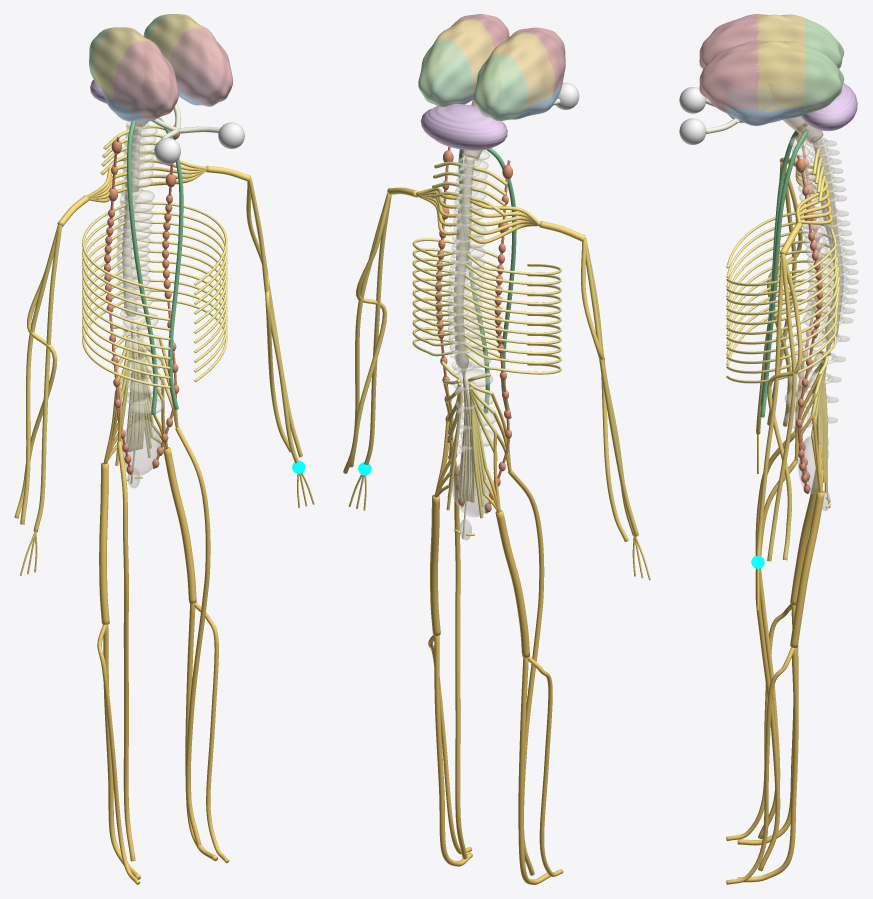
Rendered from NERVOUS.glb.
3 views of the same model, side by side, from view 1: azimuth 30°, elevation 25°; view 2: azimuth 150°, elevation 25°; view 3: azimuth 270°, elevation 25° (orthographic). The views are drawn at different scales.
Parts seen in each view (by area): view 1: LUMBOSACRAL_PLEXUS, SPINAL_NERVES, BRACHIAL_PLEXUS, VERTEBRAL_COLUMN, FRONTAL_LOBE_R, FRONTAL_LOBE_L, SYMPATHETIC_CHAIN, VAGUS_NERVE, PARIETAL_LOBE_R, OCCIPITAL_LOBE_R, PARIETAL_LOBE_L, OCCIPITAL_LOBE_L (+5 smaller); view 2: LUMBOSACRAL_PLEXUS, SPINAL_NERVES, BRACHIAL_PLEXUS, VERTEBRAL_COLUMN, CEREBELLUM, FRONTAL_LOBE_R, PARIETAL_LOBE_R, OCCIPITAL_LOBE_R, OCCIPITAL_LOBE_L, SYMPATHETIC_CHAIN, PARIETAL_LOBE_L, SPINAL_CORD (+5 smaller); view 3: LUMBOSACRAL_PLEXUS, SPINAL_NERVES, VERTEBRAL_COLUMN, BRACHIAL_PLEXUS, FRONTAL_LOBE_L, PARIETAL_LOBE_L, SYMPATHETIC_CHAIN, TEMPORAL_LOBE_L, VAGUS_NERVE, OCCIPITAL_LOBE_L, FRONTAL_LOBE_R, CEREBELLUM (+6 smaller).
Boxes of the visible parts, left/top/right/bottom form: LUMBOSACRAL_PLEXUS: left=97, top=339, right=229, bottom=884; SPINAL_NERVES: left=82, top=125, right=227, bottom=480; BRACHIAL_PLEXUS: left=14, top=153, right=314, bottom=575; VERTEBRAL_COLUMN: left=116, top=121, right=164, bottom=488; FRONTAL_LOBE_R: left=113, top=40, right=178, bottom=119; FRONTAL_LOBE_L: left=169, top=27, right=232, bottom=105; SYMPATHETIC_CHAIN: left=104, top=124, right=179, bottom=474; VAGUS_NERVE: left=127, top=117, right=183, bottom=415; PARIETAL_LOBE_R: left=92, top=27, right=165, bottom=99; OCCIPITAL_LOBE_R: left=89, top=27, right=138, bottom=92; PARIETAL_LOBE_L: left=149, top=14, right=219, bottom=72; OCCIPITAL_LOBE_L: left=143, top=14, right=192, bottom=76; LUMBOSACRAL_PLEXUS: left=428, top=382, right=563, bottom=884; SPINAL_NERVES: left=412, top=161, right=561, bottom=535; BRACHIAL_PLEXUS: left=343, top=187, right=650, bottom=580; VERTEBRAL_COLUMN: left=447, top=150, right=495, bottom=540; CEREBELLUM: left=420, top=104, right=507, bottom=150; FRONTAL_LOBE_R: left=502, top=27, right=565, bottom=94; PARIETAL_LOBE_R: left=480, top=31, right=554, bottom=109; OCCIPITAL_LOBE_R: left=473, top=52, right=527, bottom=121; OCCIPITAL_LOBE_L: left=418, top=39, right=471, bottom=107; SYMPATHETIC_CHAIN: left=435, top=146, right=512, bottom=513; PARIETAL_LOBE_L: left=424, top=17, right=494, bottom=95; SPINAL_CORD: left=453, top=156, right=474, bottom=377; LUMBOSACRAL_PLEXUS: left=726, top=353, right=824, bottom=884; SPINAL_NERVES: left=726, top=141, right=839, bottom=508; VERTEBRAL_COLUMN: left=784, top=136, right=858, bottom=510; BRACHIAL_PLEXUS: left=756, top=157, right=832, bottom=610; FRONTAL_LOBE_L: left=699, top=40, right=760, bottom=113; PARIETAL_LOBE_L: left=754, top=40, right=808, bottom=111; SYMPATHETIC_CHAIN: left=795, top=127, right=822, bottom=493; TEMPORAL_LOBE_L: left=725, top=86, right=806, bottom=125; VAGUS_NERVE: left=760, top=122, right=808, bottom=417; OCCIPITAL_LOBE_L: left=802, top=45, right=844, bottom=114; FRONTAL_LOBE_R: left=699, top=14, right=760, bottom=68; CEREBELLUM: left=801, top=83, right=857, bottom=131.
Bounding box in the file's own units: 3.05 × 8.21 × 1.59.
